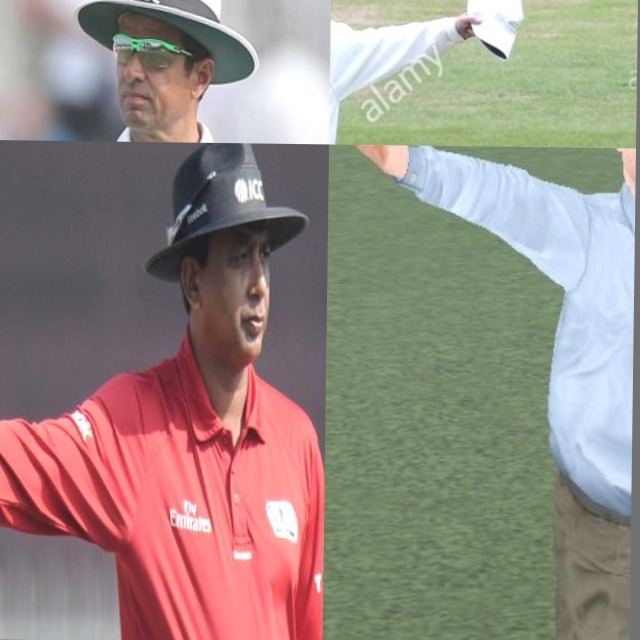No_Action: (0, 0, 331, 144)
No_Ball: (0, 140, 329, 640), (322, 144, 636, 640)
Wide: (329, 0, 609, 148)
